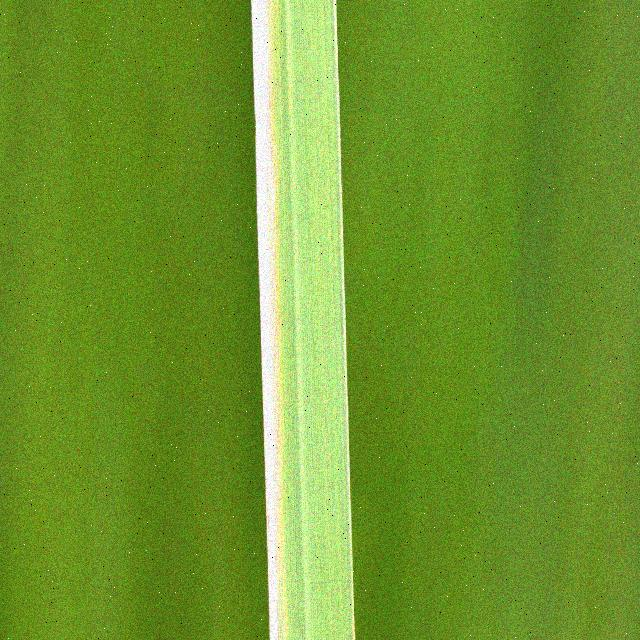BLB: (252, 0, 284, 640)
